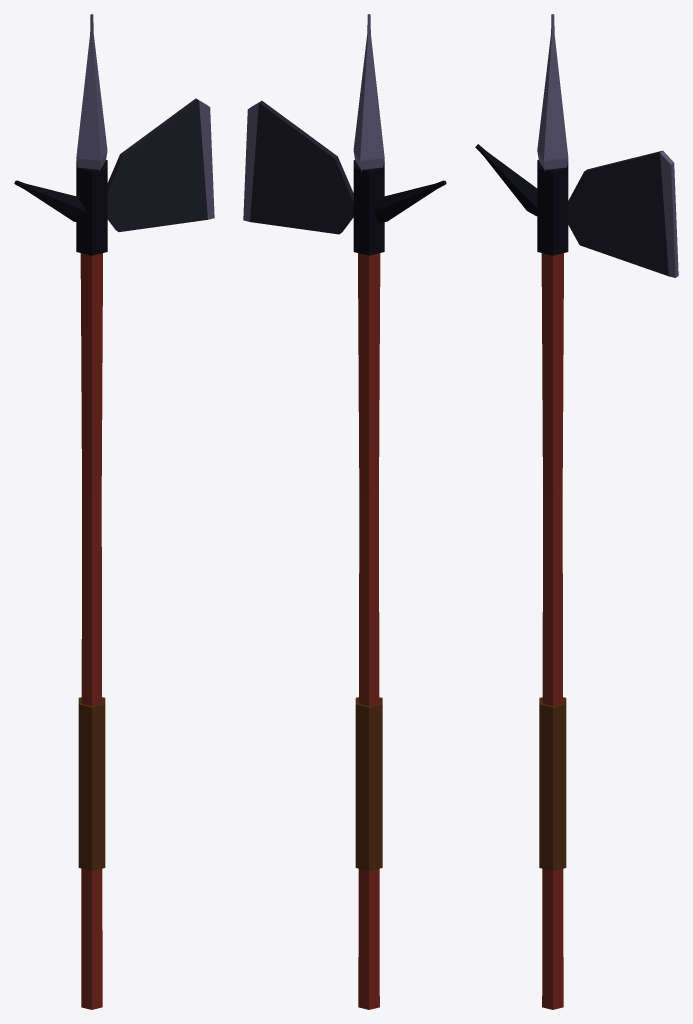
The model's file is wpn_melee_2h_9.glb.
3 renders of one model, left to right at view 1: azimuth 30°, elevation 25°; view 2: azimuth 150°, elevation 25°; view 3: azimuth 330°, elevation 25°, orthographic.
Parts seen in each view (by area): view 1: wpn_melee_2h_9; view 2: wpn_melee_2h_9; view 3: wpn_melee_2h_9.
Boxes of the visible parts, x1=… form: wpn_melee_2h_9: x1=14, y1=14, x2=214, y2=1009; wpn_melee_2h_9: x1=243, y1=14, x2=446, y2=1009; wpn_melee_2h_9: x1=475, y1=14, x2=678, y2=1009.
Size of the model in its own units: 0.4472 by 2.12 by 0.07.
